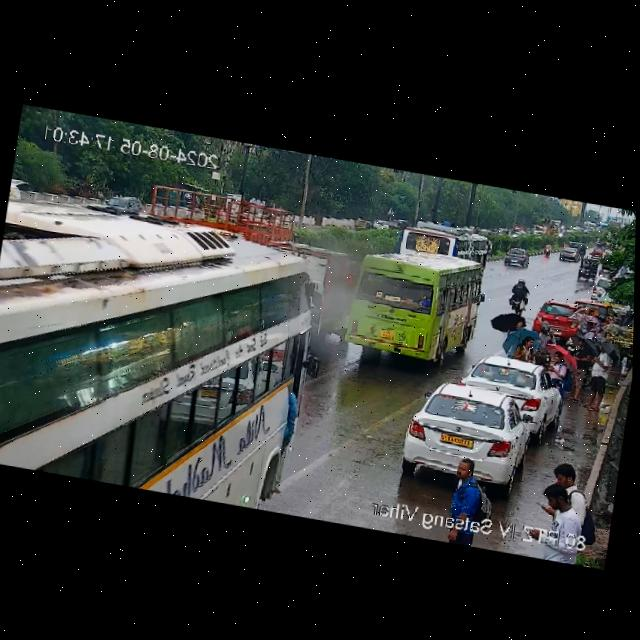bus: (0, 202, 315, 513), (337, 239, 482, 373), (390, 218, 490, 267)
car: (396, 375, 552, 501), (452, 350, 563, 421), (528, 297, 580, 337), (571, 253, 601, 281), (592, 274, 619, 303), (103, 188, 138, 210), (503, 246, 530, 266), (350, 216, 371, 235), (557, 246, 580, 262), (371, 216, 389, 231), (592, 245, 604, 257)
motorcycle: (508, 275, 530, 316), (542, 241, 552, 257)
person: (530, 484, 587, 534), (583, 343, 620, 413), (444, 457, 482, 518), (544, 457, 587, 492), (567, 335, 589, 402), (515, 337, 536, 363), (550, 349, 565, 380), (536, 321, 553, 344), (510, 319, 525, 335), (587, 307, 598, 318)
truck: (134, 181, 299, 254)
